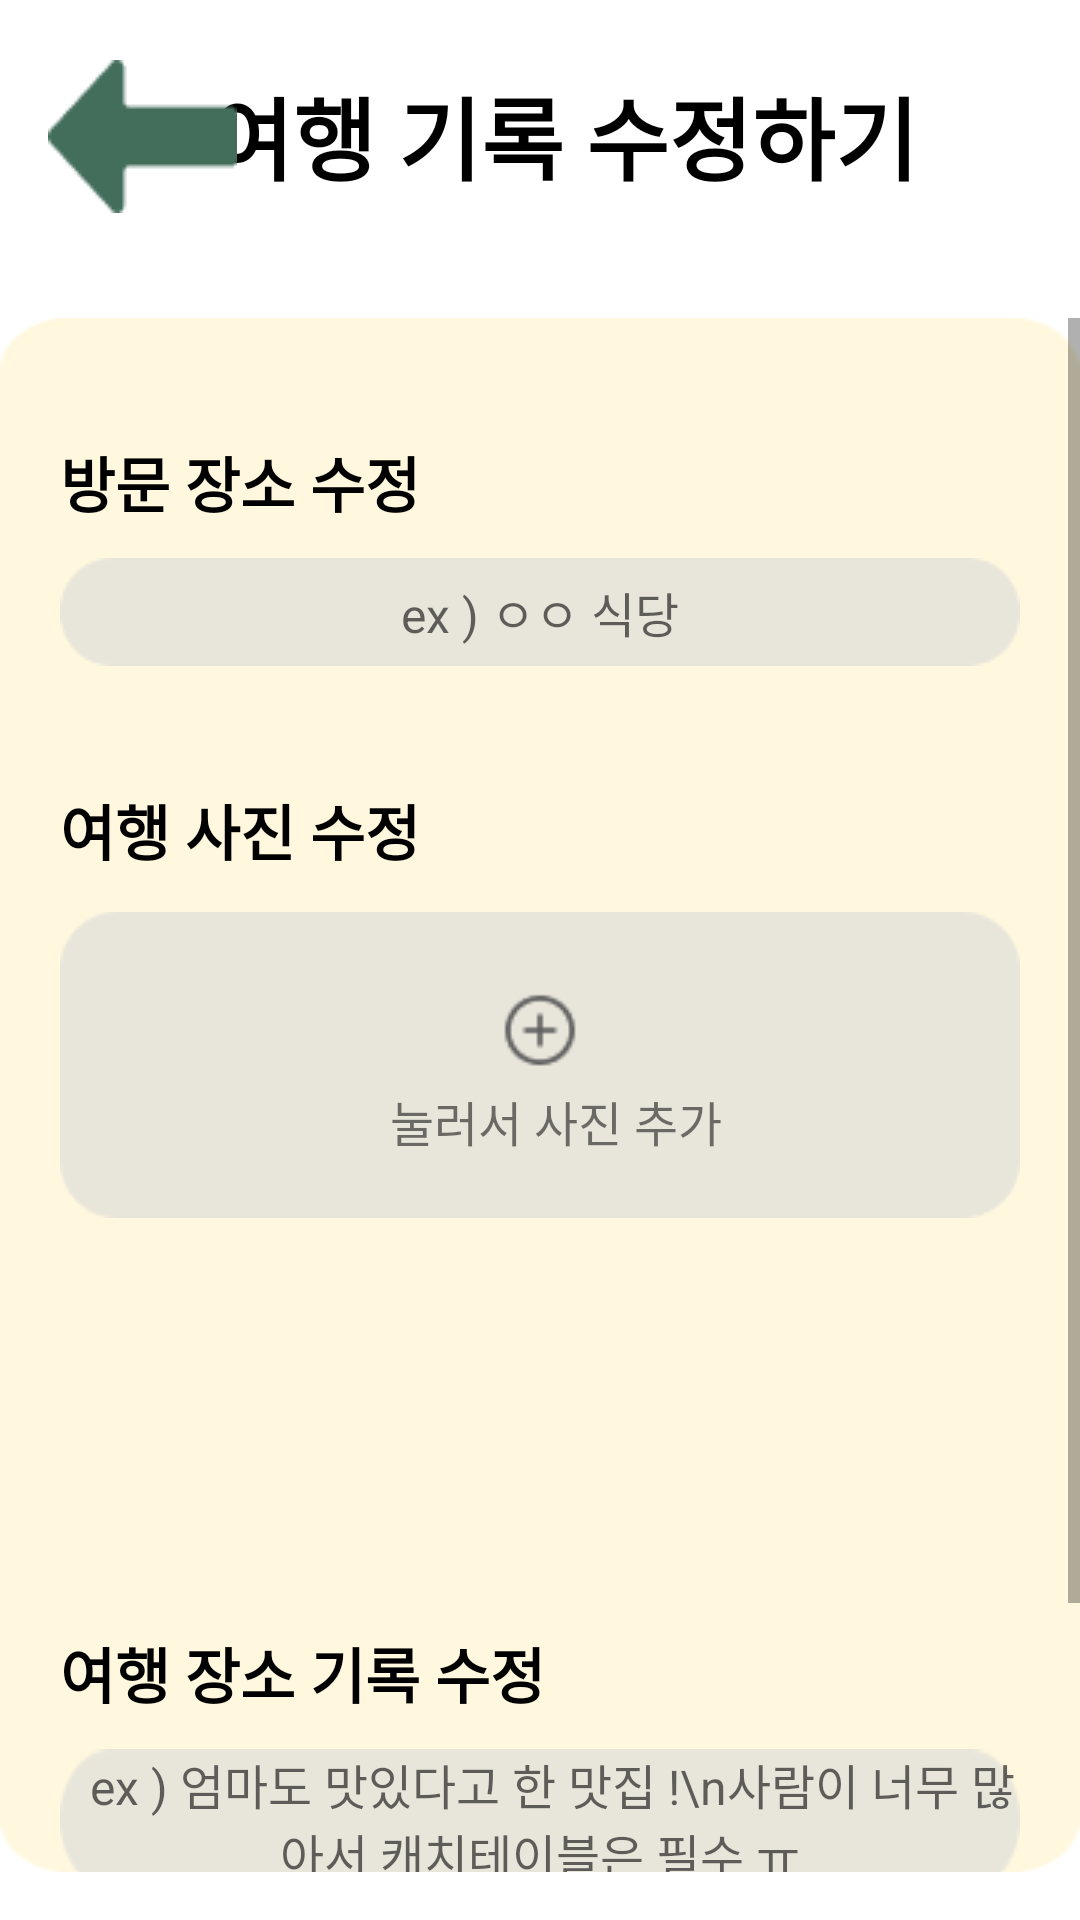

Where icons sit on this 1080px x 1920px app screen, as (x1=x1, y1=y1, x2=x2, y2=y2):
back 버튼: (x1=48, y1=60, x2=237, y2=213)
